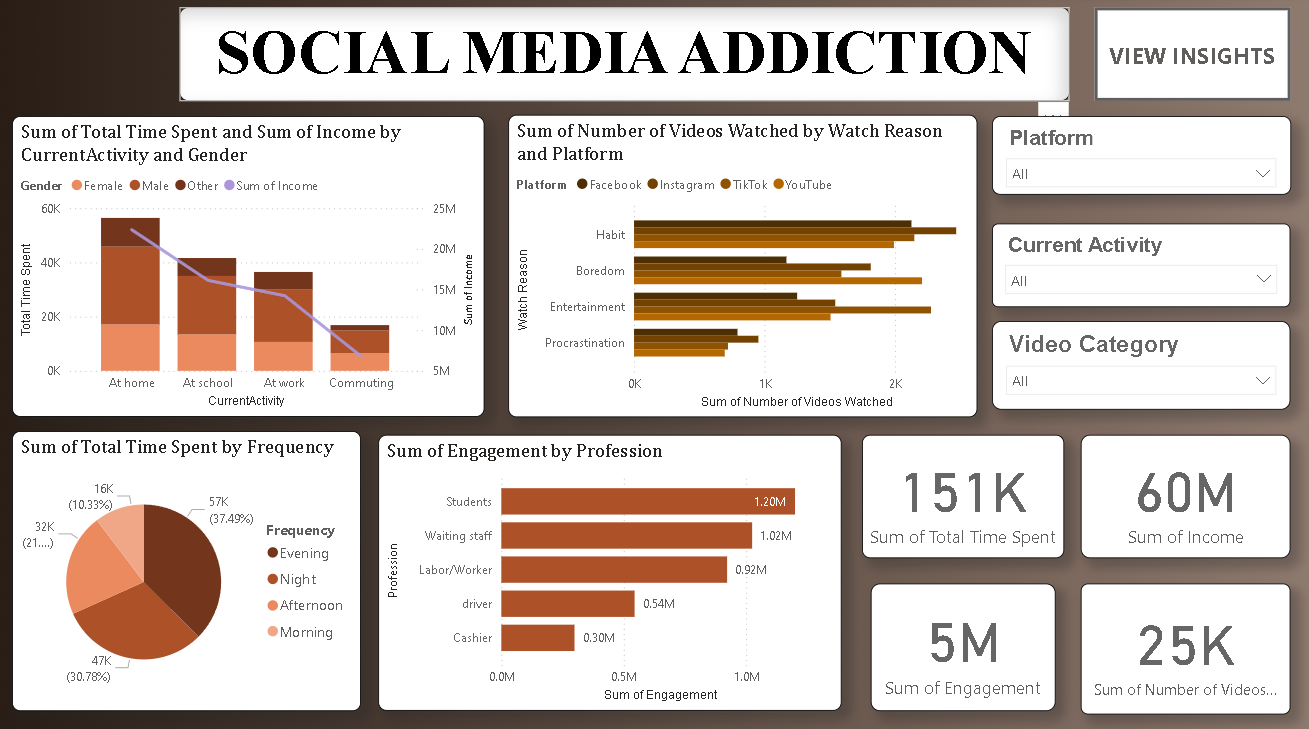

This screenshot's page, from the dashboard's own definition file:
{"tool":"powerbi","page":{"name":"SOCIAL MEDIA","canvas":[1280,720],"ordinal":1},"visuals":[{"type":"textbox","box":[181,10.9,859,90.5],"z":0},{"type":"lineStackedColumnComboChart","fields":{"Category":["SocialMedia.CurrentActivity"],"Y":["Sum(SocialMedia.Total Time Spent)"],"Y2":["Sum(SocialMedia.Income)"],"Series":["SocialMedia.Gender"]},"box":[19.3,115.8,456,290.8],"z":1000},{"type":"clusteredBarChart","fields":{"Y":["Sum(SocialMedia.Number of Videos Watched)"],"Series":["SocialMedia.Platform"],"Category":["SocialMedia.Watch Reason"]},"box":[497.7,114.9,452.4,292.3],"z":2000},{"type":"pieChart","fields":{"Category":["SocialMedia.Frequency"],"Y":["Sum(SocialMedia.Total Time Spent)"]},"box":[19.3,419.8,336.6,270.2],"z":3000},{"type":"clusteredBarChart","fields":{"Category":["SocialMedia.Profession"],"Y":["Sum(SocialMedia.Engagement)"]},"box":[372.8,423.5,447.6,266.6],"z":4000},{"type":"slicer","fields":{"Values":["SocialMedia.CurrentActivity"]},"box":[965.2,219.6,288.3,80.8],"z":5000},{"type":"slicer","fields":{"Values":["SocialMedia.Platform"]},"box":[965.4,115.4,288.5,75.6],"z":6000},{"type":"slicer","fields":{"Values":["SocialMedia.Video Category"]},"box":[965.2,313.7,288.3,85.7],"z":7000},{"type":"card","fields":{"Values":["Sum(SocialMedia.Number of Videos Watched)"]},"box":[1050.8,567,202.7,126.7],"z":8000},{"type":"card","fields":{"Values":["Sum(SocialMedia.Total Time Spent)"]},"box":[839.7,423.5,195.4,119.4],"z":9000},{"type":"card","fields":{"Values":["Sum(SocialMedia.Engagement)"]},"box":[848.1,567,178.6,123.1],"z":10000},{"type":"card","fields":{"Values":["Sum(SocialMedia.Income)"]},"box":[1050.8,423.5,202.7,119.4],"z":11000},{"type":"actionButton","box":[1064.1,10.9,189.4,90.5],"z":12000}]}

Visuals, with their boxes in screenshot pixels (x1, y1, x2, y2), scaled from the page's 1280x720 canvas onto the 1309x729 screenshot:
textbox: x1=185, y1=11, x2=1064, y2=103
lineStackedColumnComboChart - SocialMedia.CurrentActivity x Sum(SocialMedia.Total Time Spent): x1=20, y1=117, x2=486, y2=412
clusteredBarChart - Sum(SocialMedia.Number of Videos Watched) x SocialMedia.Platform: x1=509, y1=116, x2=972, y2=412
pieChart - SocialMedia.Frequency x Sum(SocialMedia.Total Time Spent): x1=20, y1=425, x2=364, y2=699
clusteredBarChart - SocialMedia.Profession x Sum(SocialMedia.Engagement): x1=381, y1=429, x2=839, y2=699
slicer - SocialMedia.CurrentActivity: x1=987, y1=222, x2=1282, y2=304
slicer - SocialMedia.Platform: x1=987, y1=117, x2=1282, y2=193
slicer - SocialMedia.Video Category: x1=987, y1=318, x2=1282, y2=404
card - Sum(SocialMedia.Number of Videos Watched): x1=1075, y1=574, x2=1282, y2=702
card - Sum(SocialMedia.Total Time Spent): x1=859, y1=429, x2=1059, y2=550
card - Sum(SocialMedia.Engagement): x1=867, y1=574, x2=1050, y2=699
card - Sum(SocialMedia.Income): x1=1075, y1=429, x2=1282, y2=550
actionButton: x1=1088, y1=11, x2=1282, y2=103
